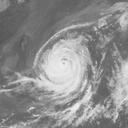cyclone: (39, 40, 87, 93)
